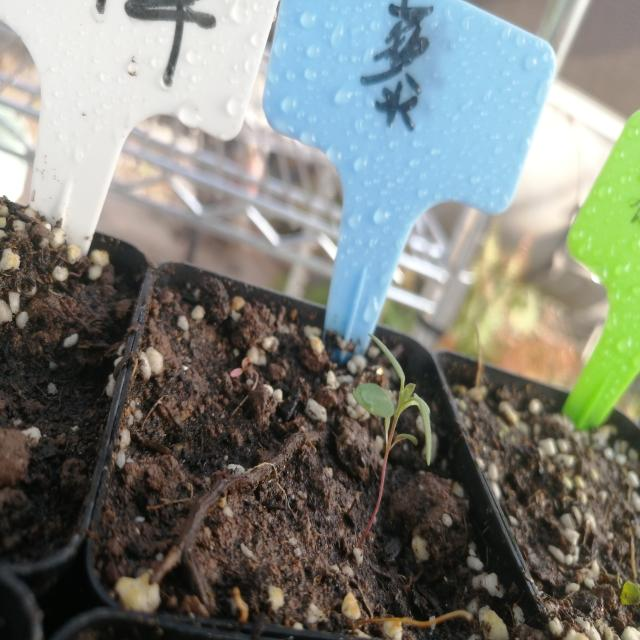goosefoots: (336, 334, 460, 508)
